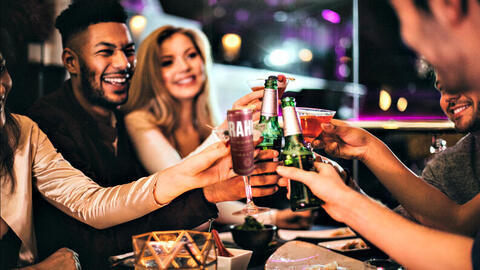duplo_malte: (225, 109, 260, 179)
